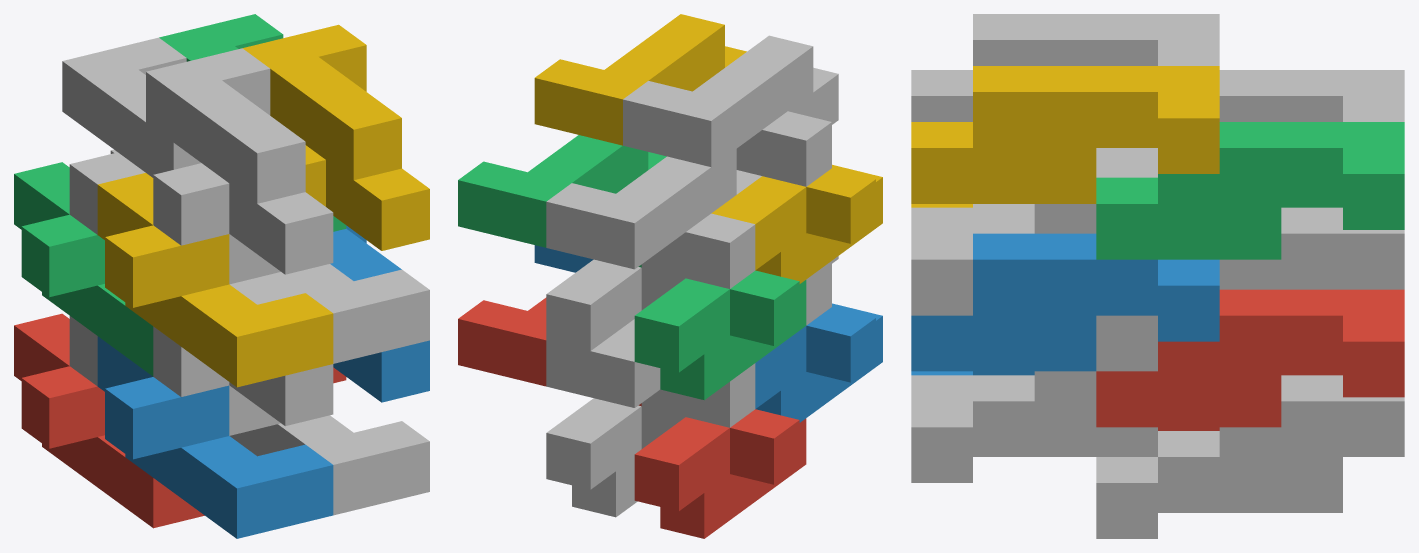
Rendered from tiling.obj.
3 views of the same model, side by side, from view 1: azimuth 30°, elevation 25°; view 2: azimuth 150°, elevation 25°; view 3: azimuth 270°, elevation 25° (orthographic). The views are drawn at different scales.
Parts seen in each view (by area): view 1: copy_2_domain_4, copy_1_domain_4, copy_1_domain_2, copy_2_domain_8, copy_1_domain_1, copy_2_domain_3, copy_1_domain_3, copy_1_domain_6, copy_1_domain_8, copy_2_domain_2, copy_2_domain_6, copy_2_domain_7 (+1 smaller); view 2: copy_2_domain_4, copy_2_domain_3, copy_1_domain_1, copy_1_domain_3, copy_2_domain_8, copy_1_domain_4, copy_2_domain_7, copy_1_domain_2, copy_1_domain_5, copy_2_domain_1, copy_1_domain_7, copy_2_domain_5 (+2 smaller); view 3: copy_2_domain_8, copy_2_domain_7, copy_2_domain_5, copy_2_domain_6, copy_1_domain_5, copy_1_domain_6, copy_2_domain_4, copy_1_domain_7, copy_1_domain_8, copy_2_domain_3, copy_1_domain_2.
Part boxes in pixels (box(x1,y1,x2,y2)): copy_2_domain_4: box(146, 48, 333, 274); copy_1_domain_4: box(97, 173, 333, 387); copy_1_domain_2: box(97, 336, 333, 538); copy_2_domain_8: box(242, 24, 429, 250); copy_1_domain_1: box(14, 313, 204, 528); copy_2_domain_3: box(62, 37, 200, 234); copy_1_domain_3: box(14, 162, 153, 376); copy_1_domain_6: box(229, 385, 429, 515); copy_1_domain_8: box(229, 234, 429, 363); copy_2_domain_2: box(153, 272, 333, 425); copy_2_domain_6: box(330, 225, 429, 402); copy_2_domain_7: box(159, 14, 346, 231); copy_2_domain_4: box(623, 35, 838, 186); copy_2_domain_3: box(546, 149, 761, 288); copy_1_domain_1: box(634, 409, 806, 538); copy_1_domain_3: box(634, 270, 806, 400); copy_2_domain_8: box(534, 14, 746, 145); copy_1_domain_4: box(711, 164, 882, 283); copy_2_domain_7: box(458, 135, 666, 267); copy_1_domain_2: box(755, 303, 882, 422); copy_1_domain_5: box(546, 398, 685, 517); copy_2_domain_1: box(546, 319, 755, 427); copy_1_domain_7: box(546, 259, 685, 350); copy_2_domain_5: box(458, 297, 641, 406); copy_2_domain_8: box(911, 66, 1219, 203); copy_2_domain_7: box(1096, 122, 1404, 259); copy_2_domain_5: box(1096, 289, 1404, 427); copy_2_domain_6: box(911, 233, 1219, 371); copy_1_domain_5: box(1096, 375, 1404, 538); copy_1_domain_6: box(911, 371, 1157, 482); copy_2_domain_4: box(911, 14, 1219, 121); copy_1_domain_7: box(1096, 207, 1404, 371); copy_1_domain_8: box(911, 151, 1157, 315); copy_2_domain_3: box(1096, 70, 1404, 151); copy_1_domain_2: box(911, 371, 1034, 375).
Bounding box in the file's own units: 6 × 8 × 8.
